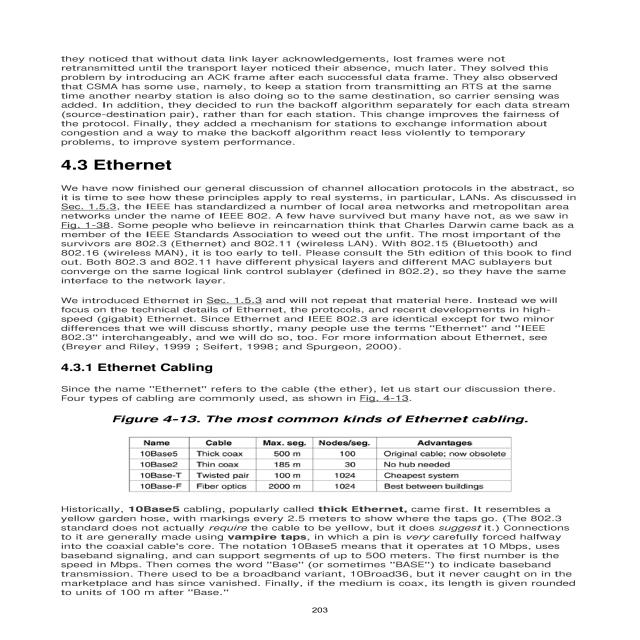diagram: (109, 405, 536, 501)
